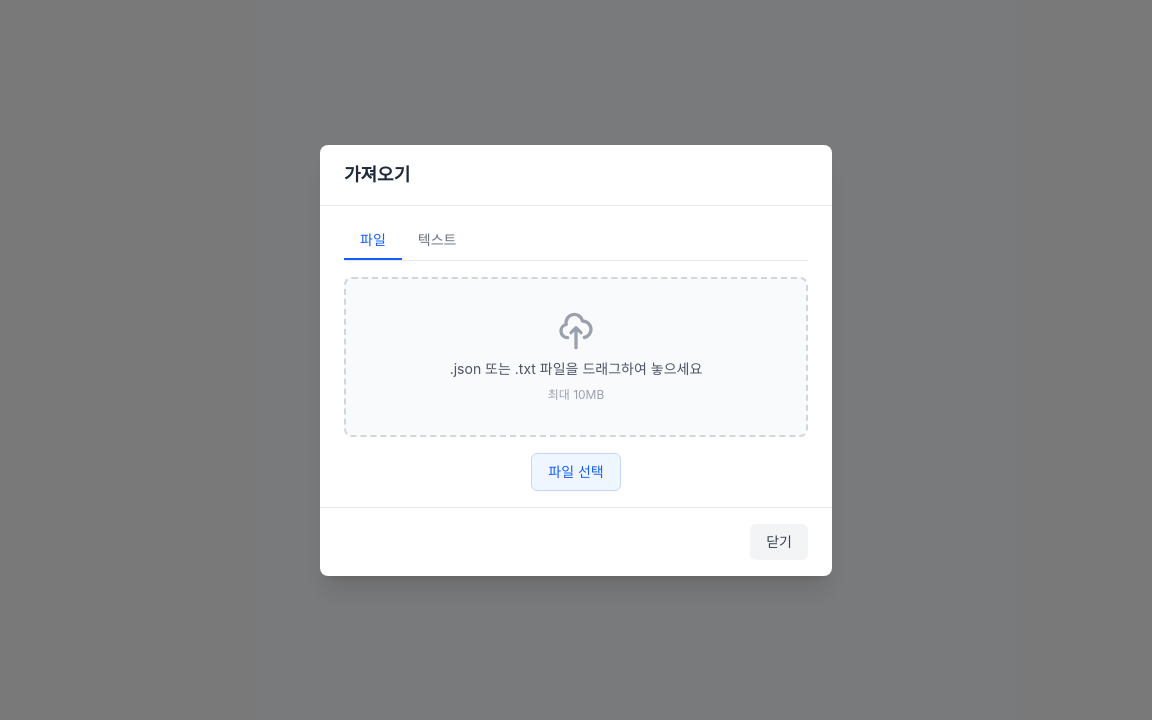
ImportPanel › 텍스트 탭 가져오기 › 텍스트 가져오기 실패 시 오류 메시지를 표시한다
Click the button "텍스트". click: (437, 240)
box: [402,222,472,260]
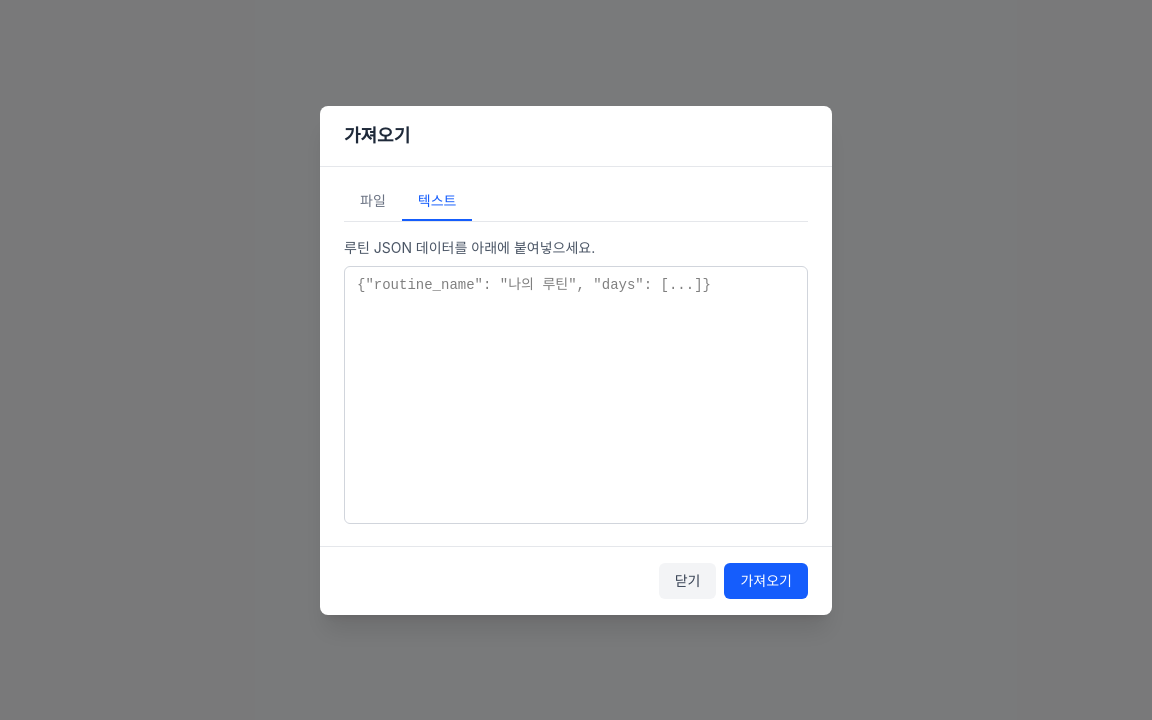
Type "invalid json" into the text box with placeholder "{\"routine_name\": \"나의 루틴\", \"days\": [...]}". click: (576, 394)
box: [344,266,808,524]
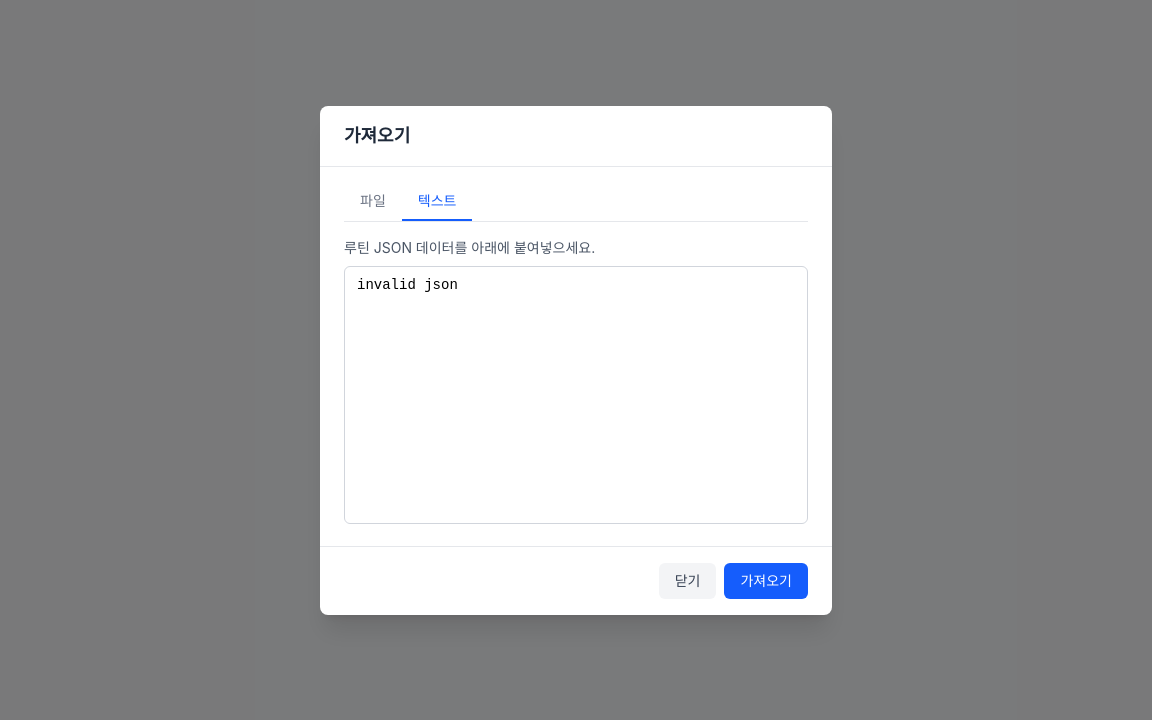
Click the button "가져오기". click: (766, 580)
box: [724,562,808,598]
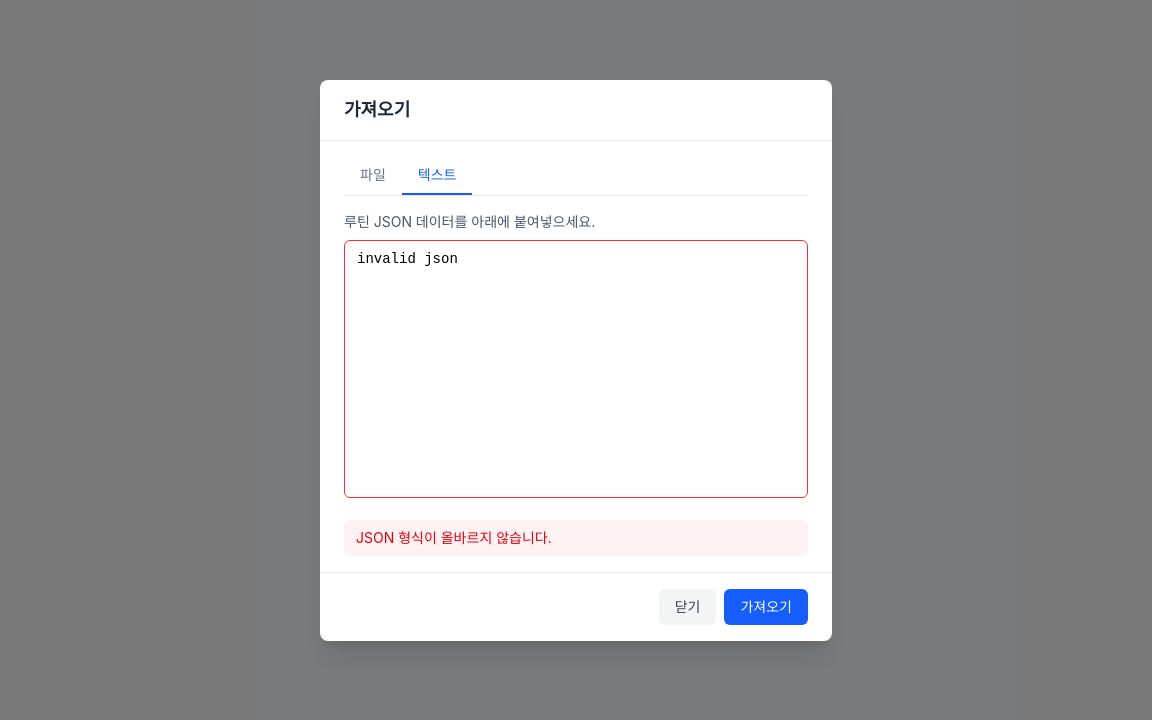
Result: the text "JSON 형식이 올바르지 않습니다." is shown at [344,520,808,556]
